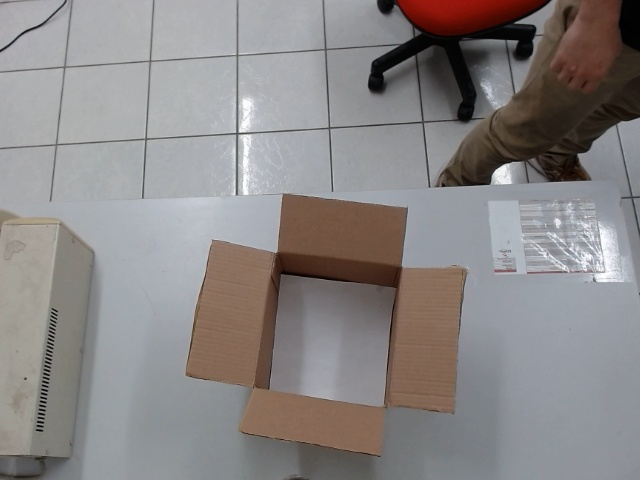caixa_principal: (249, 239, 407, 414)
